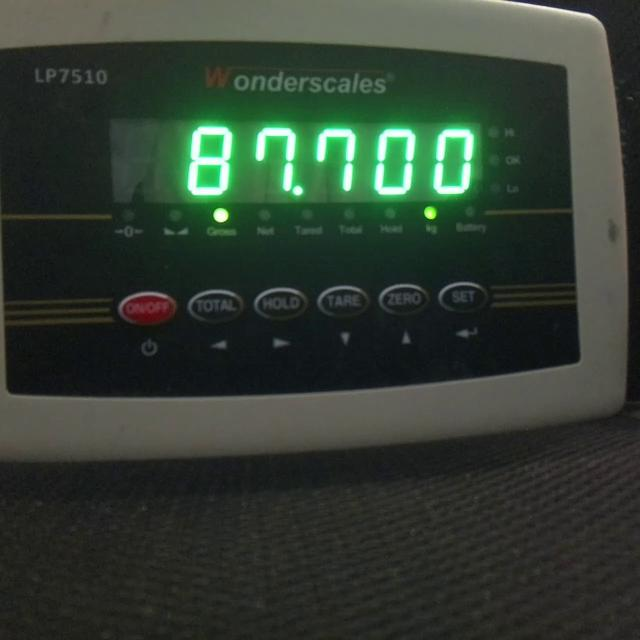.: (292, 182, 306, 196)
0: (374, 128, 416, 194)
7: (255, 126, 298, 194), (316, 127, 356, 193)
8: (187, 125, 233, 195)
